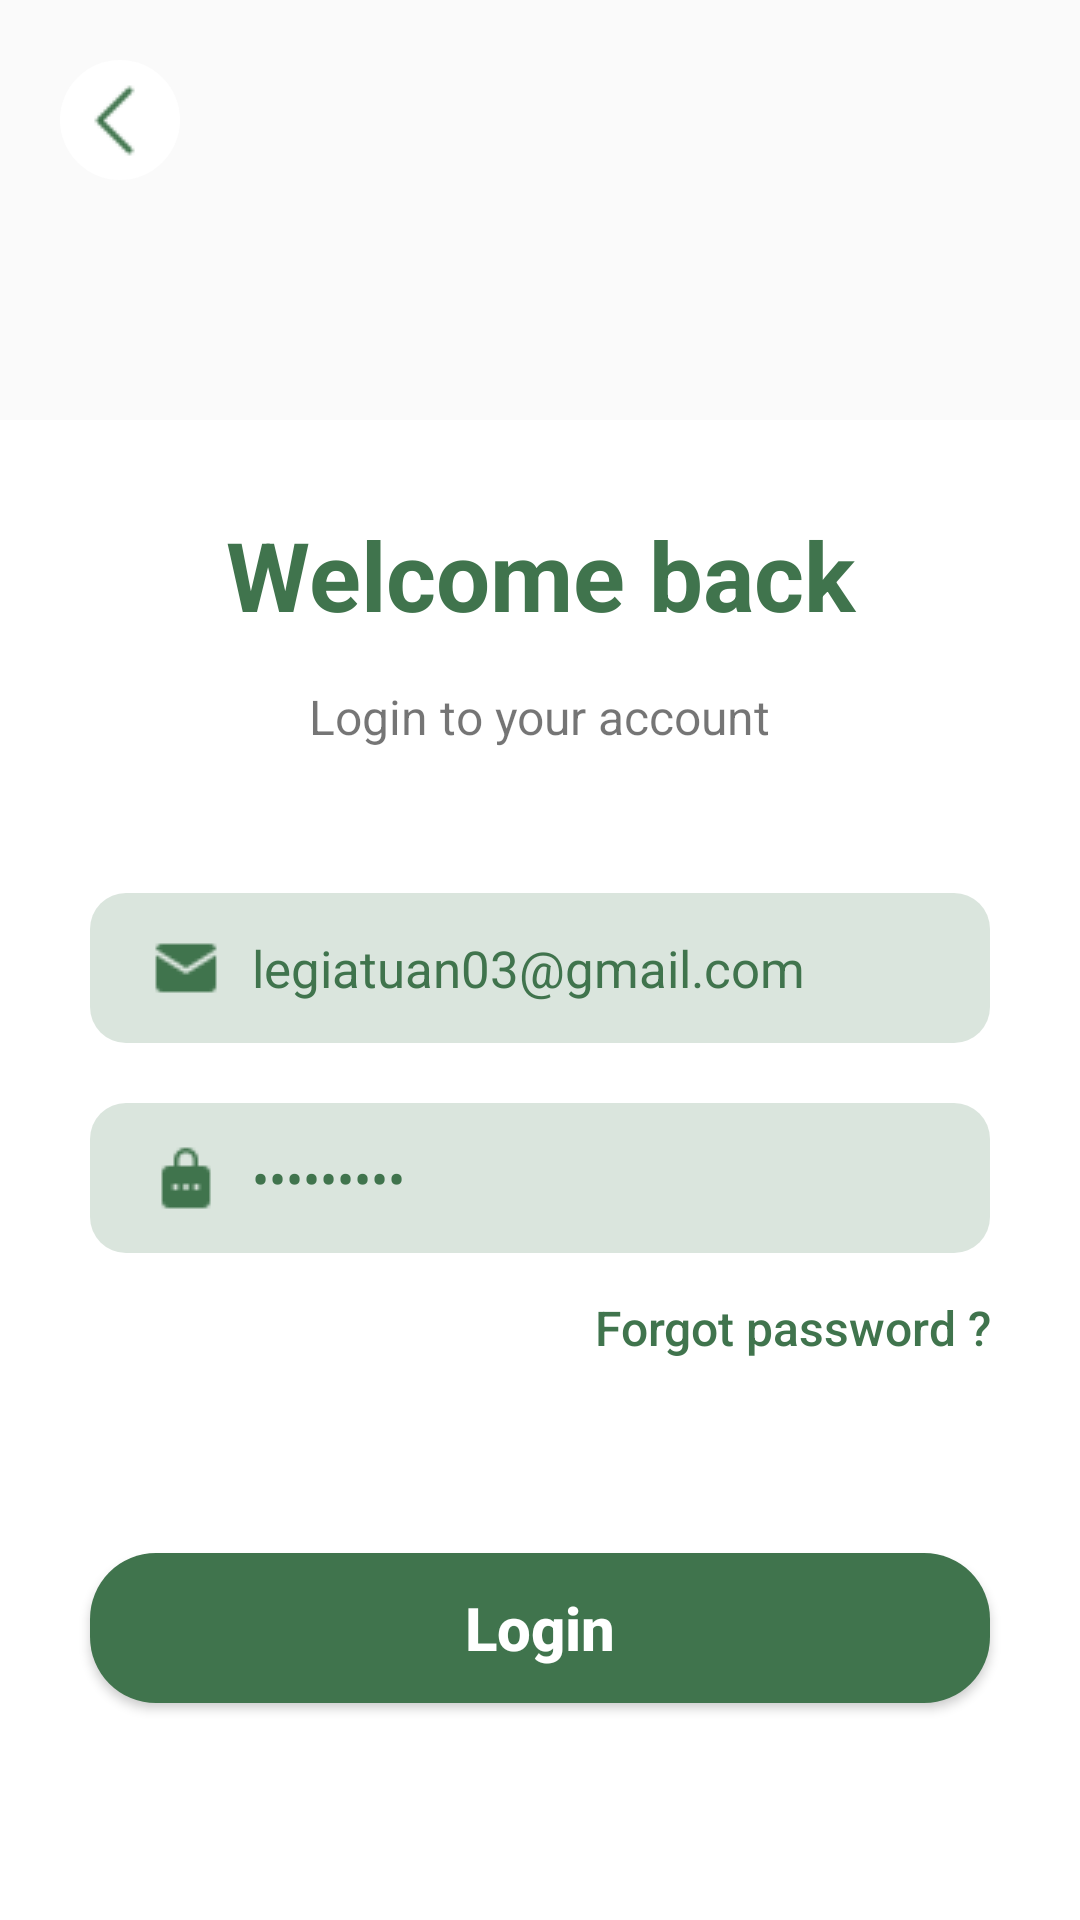

Screen size 1080×1920. Icon name, then its center in pixels as (x,y):
back: (114,120)
